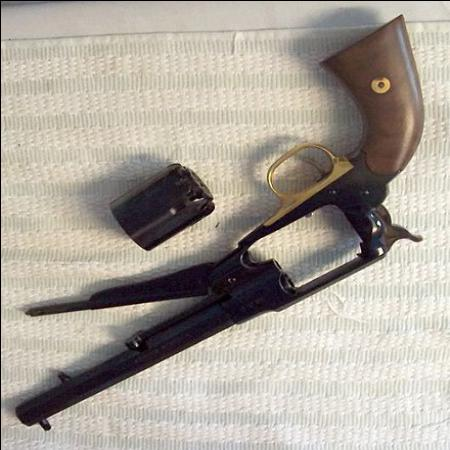Pistol: (14, 11, 436, 431)
